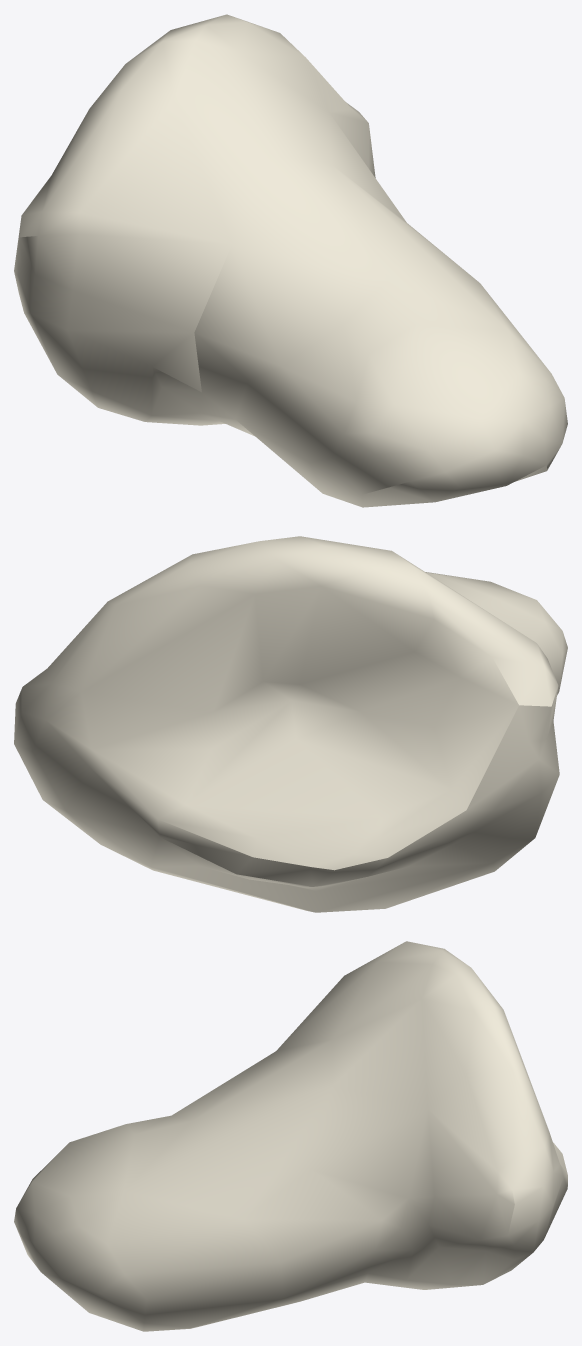
The model's file is fma32657.glb.
3 views of the same model, one above another, from view 1: azimuth 30°, elevation 25°; view 2: azimuth 150°, elevation 25°; view 3: azimuth 270°, elevation 25° (orthographic). The views are drawn at different scales.
Visible parts, largest first — view 1: FMA32657; view 2: FMA32657; view 3: FMA32657.
Part boxes in pixels (x1=…): FMA32657: x1=14, y1=14, x2=567, y2=507; FMA32657: x1=14, y1=536, x2=567, y2=912; FMA32657: x1=14, y1=941, x2=567, y2=1331.
Size of the model in its own units: 0.00858 by 0.00715 by 0.0113.
